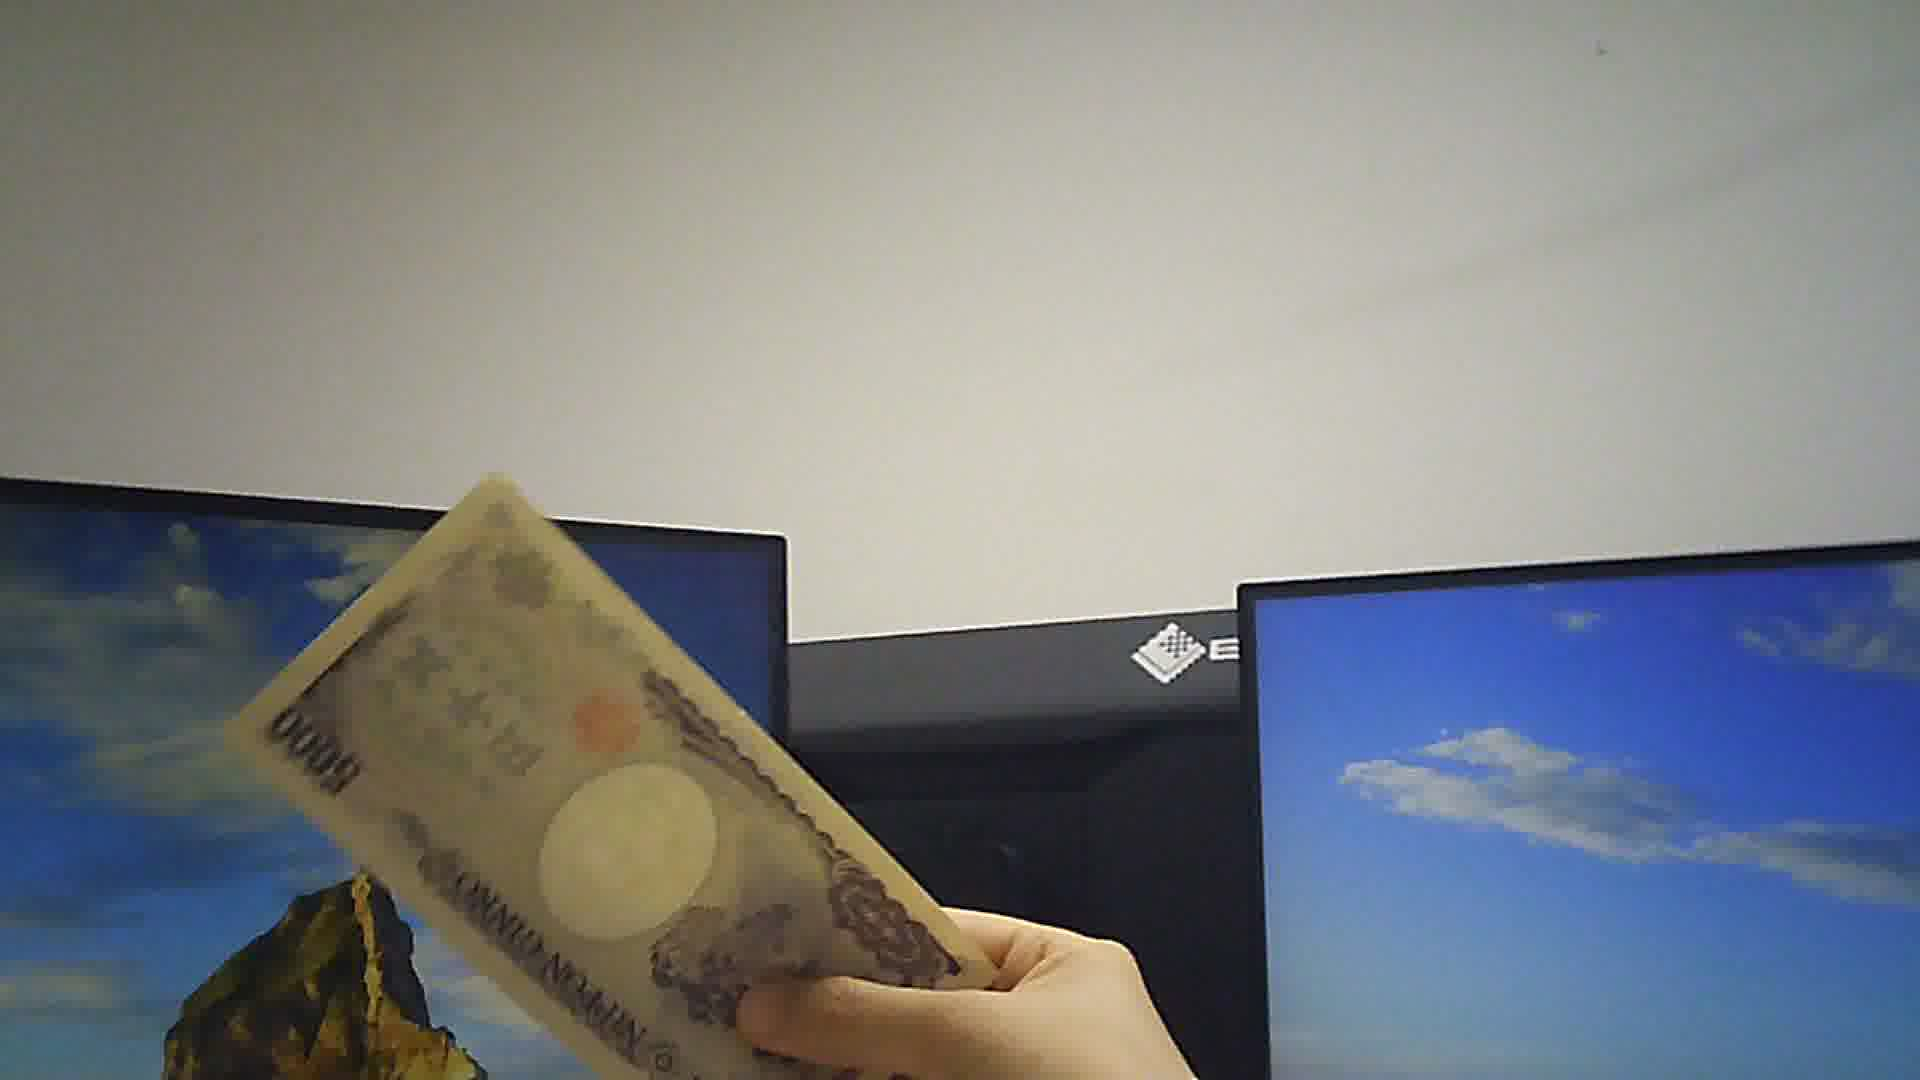5,000 Yen: (237, 485, 1004, 1079)
